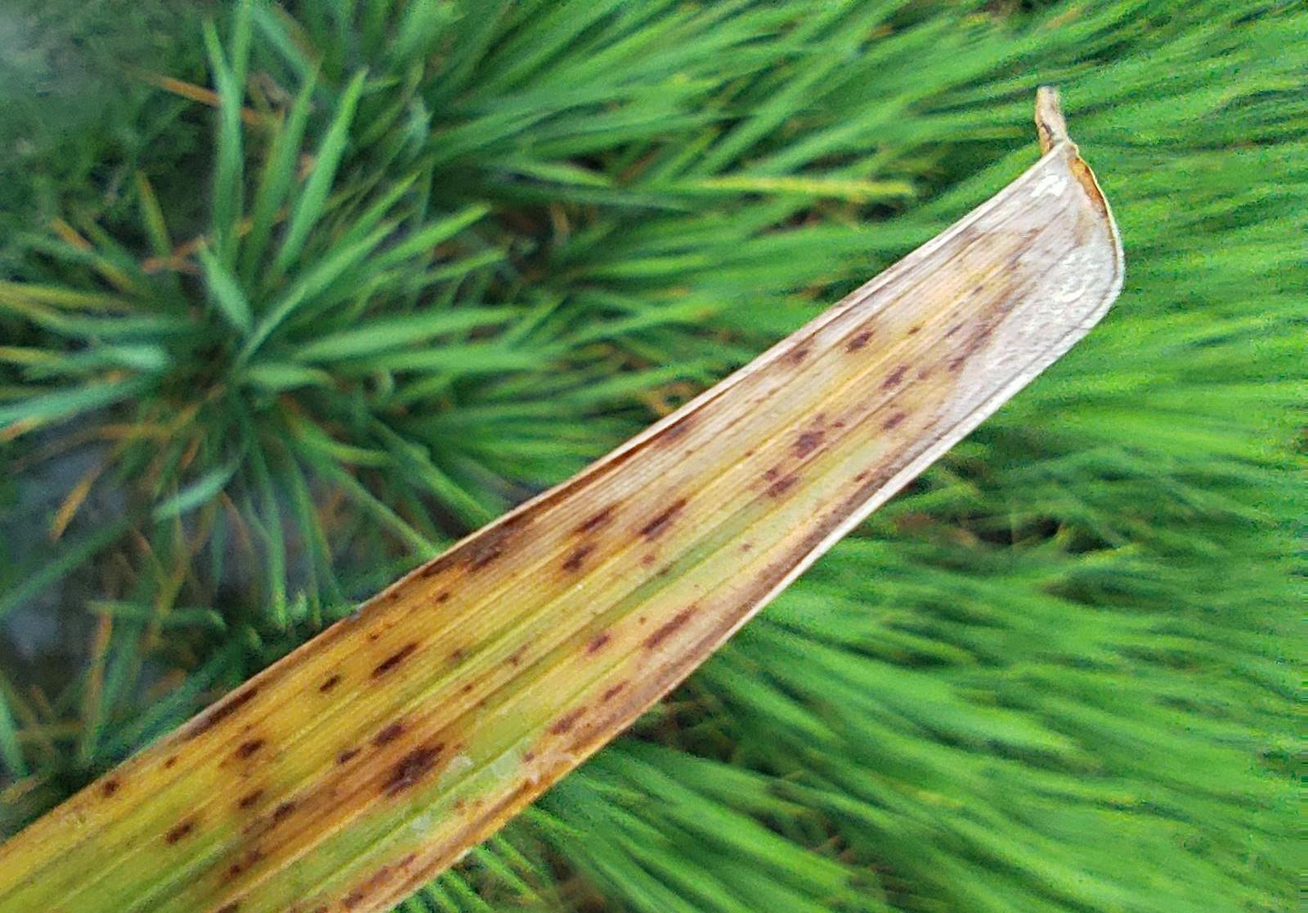LEAF: (0, 90, 1124, 912)
NBS: (180, 686, 257, 742), (634, 499, 690, 541), (568, 499, 624, 541), (364, 641, 420, 683), (640, 608, 696, 649), (550, 537, 606, 578), (370, 718, 406, 744), (842, 330, 877, 355), (877, 367, 910, 390), (584, 636, 608, 656)
